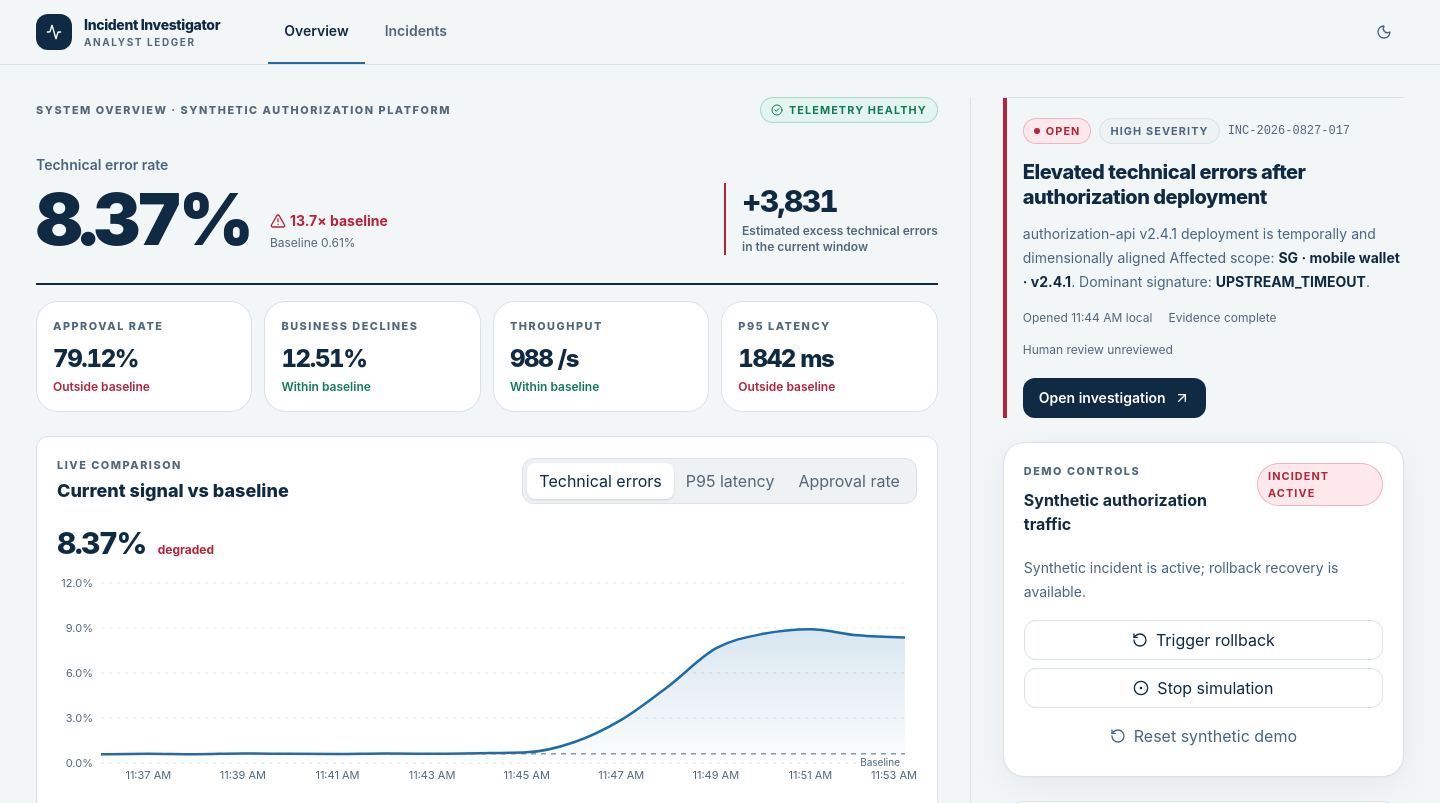
Test: requires confirmation before resetting the fixture
Click the button "Reset synthetic demo" at (1203, 736), box x1=1024 y1=716 x2=1383 y2=756
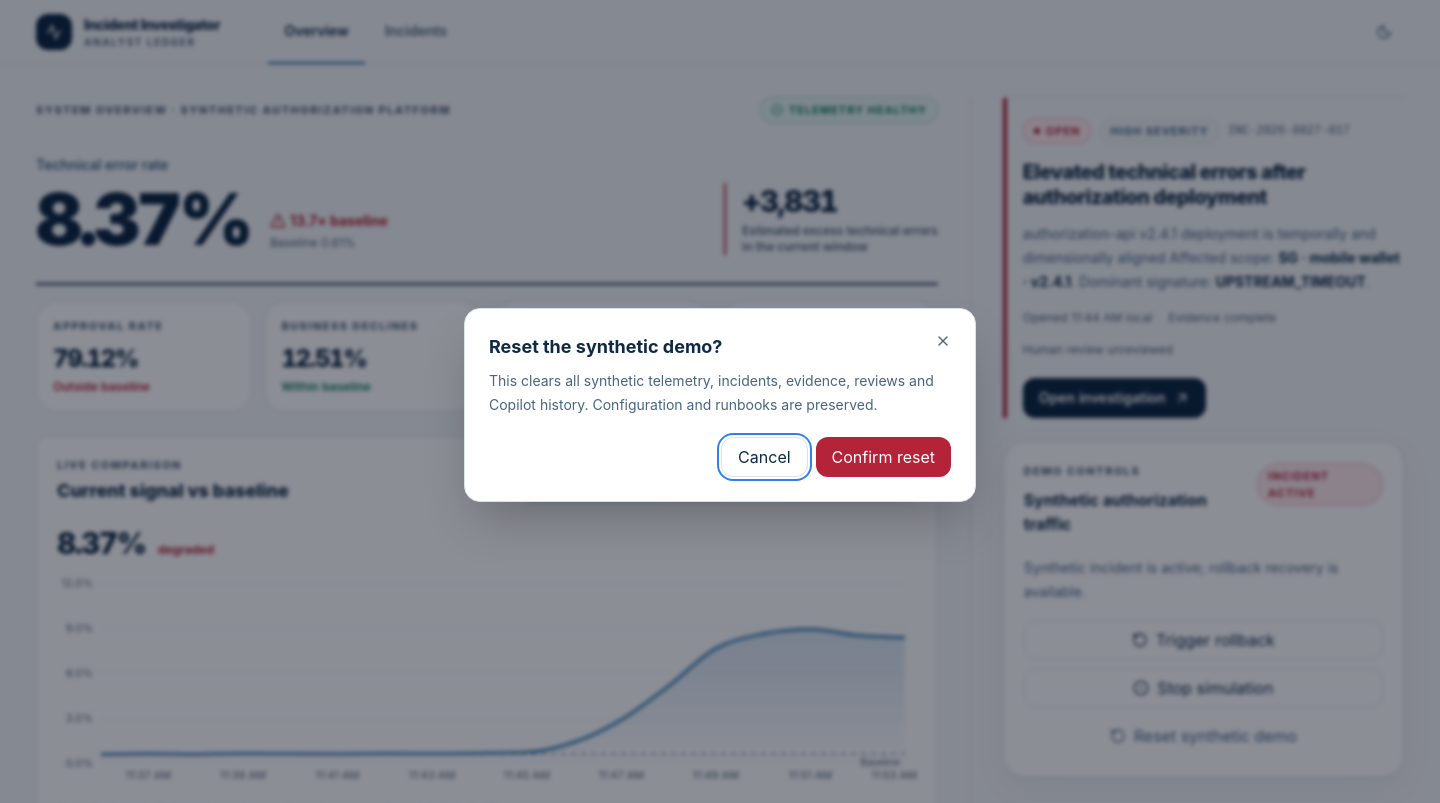
Check: the dialog "Reset the synthetic demo?" is shown, box x1=464 y1=308 x2=976 y2=502
Press Escape
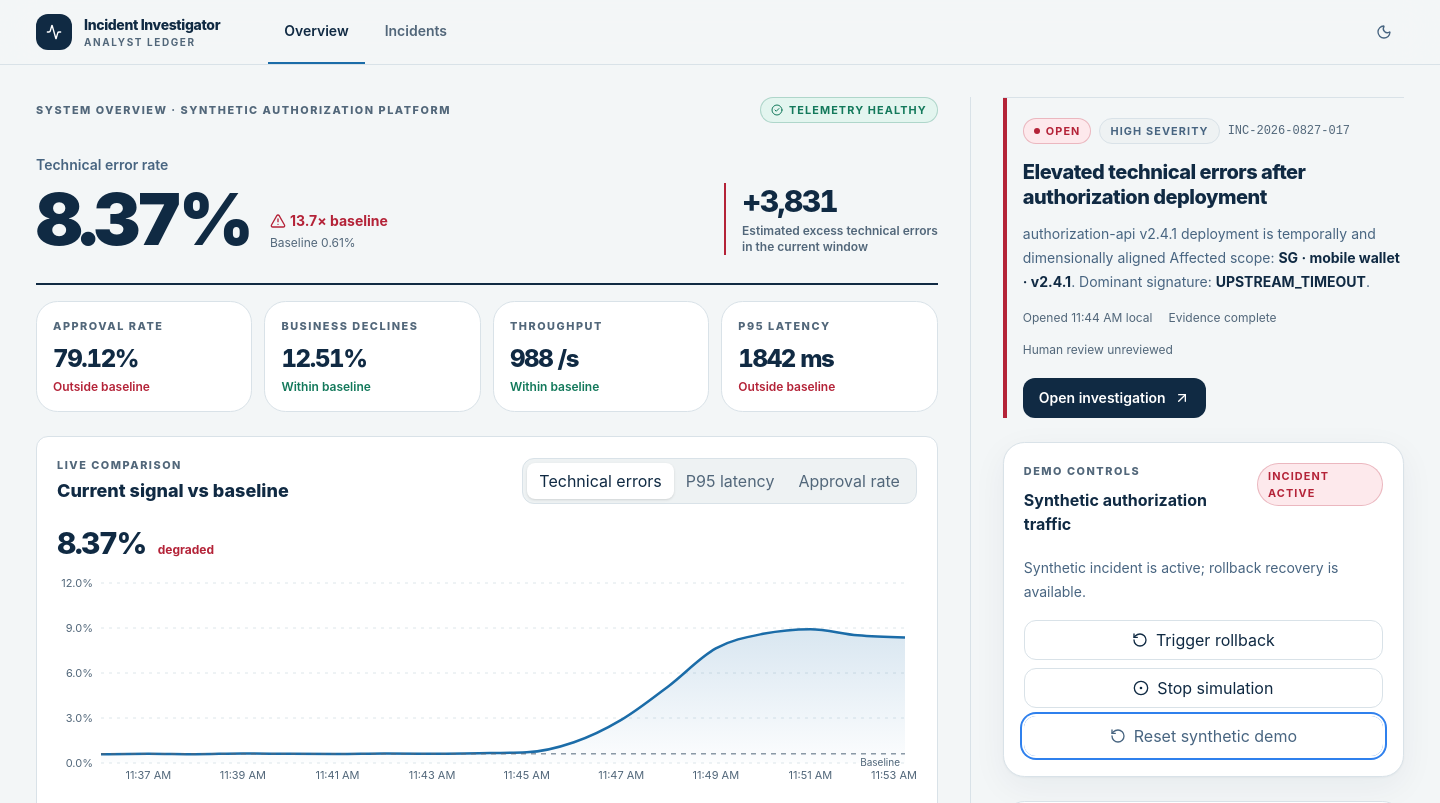
Check: the dialog is gone
